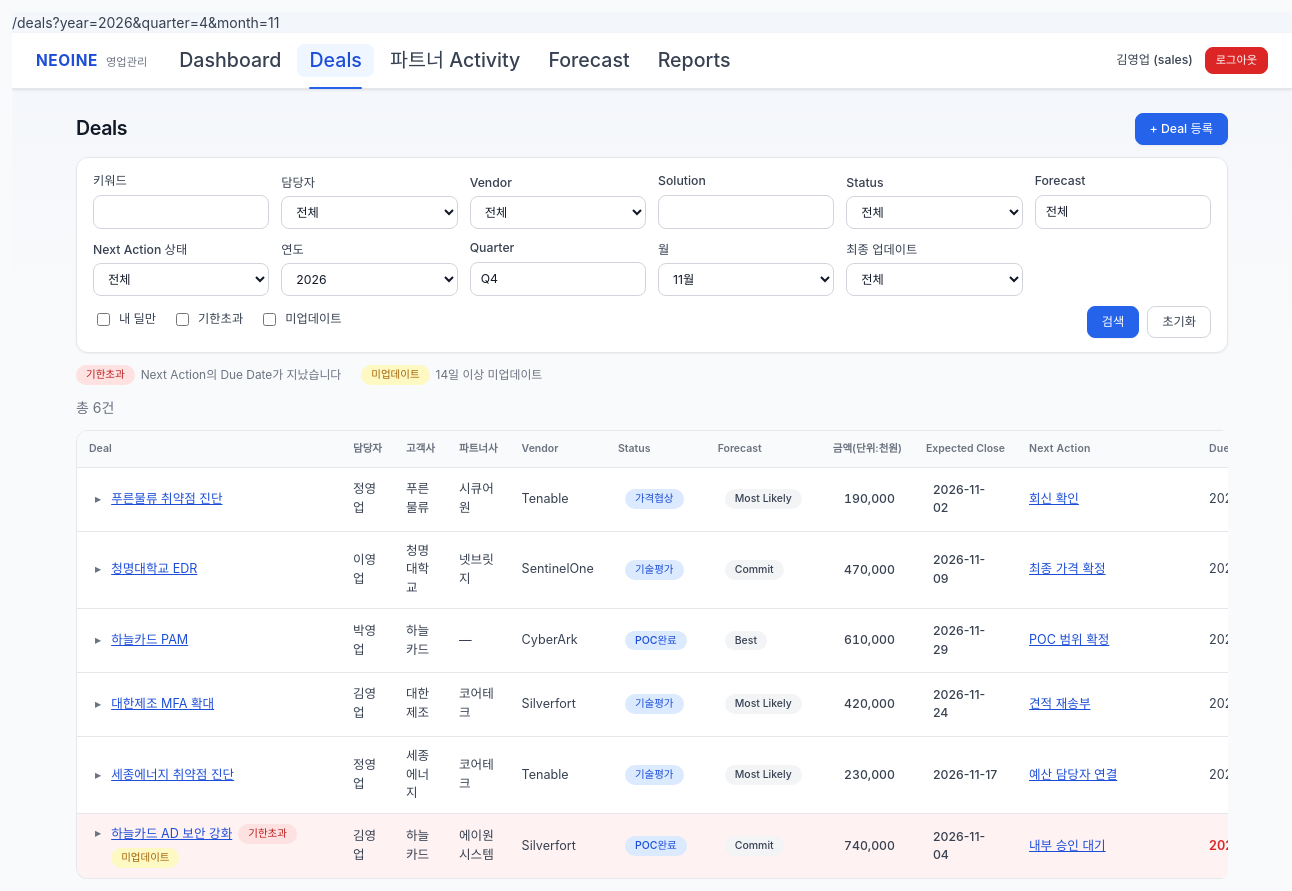
Test case: 분기를 바꿀 때 월 (AC-13, Quarter 다중 선택 AC-25) › keeps the month while a checked quarter set still contains it, and clears it once it does not
Expected: the dropdown labelled "월" is shown, [658,263,834,296]
Expected: the form named "Deal 필터" is shown, [76,157,1228,353]
Click the button named "Quarter ": (558, 279) [470,262,646,296]
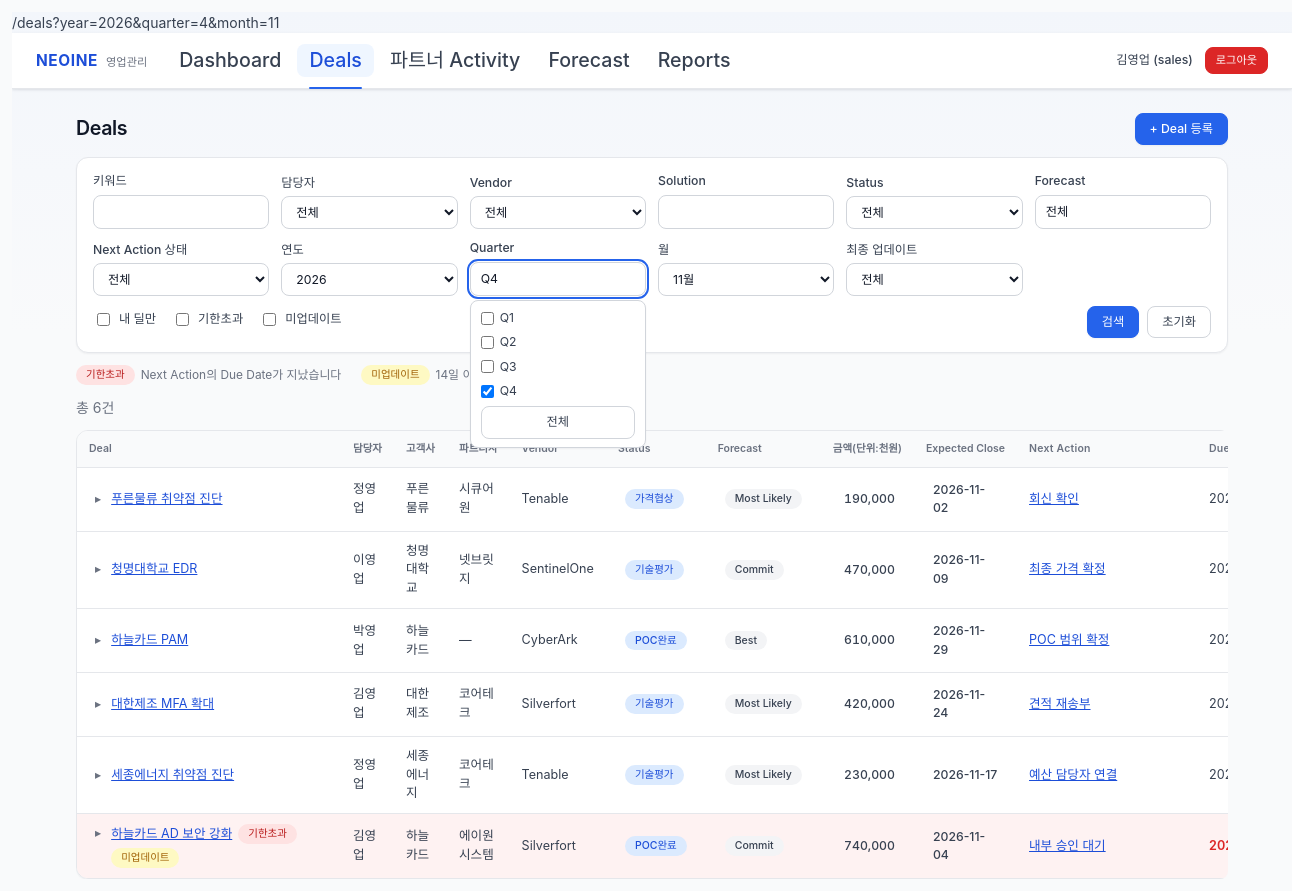
Click the checkbox labelled "Q3": (487, 367) [481,360,494,373]
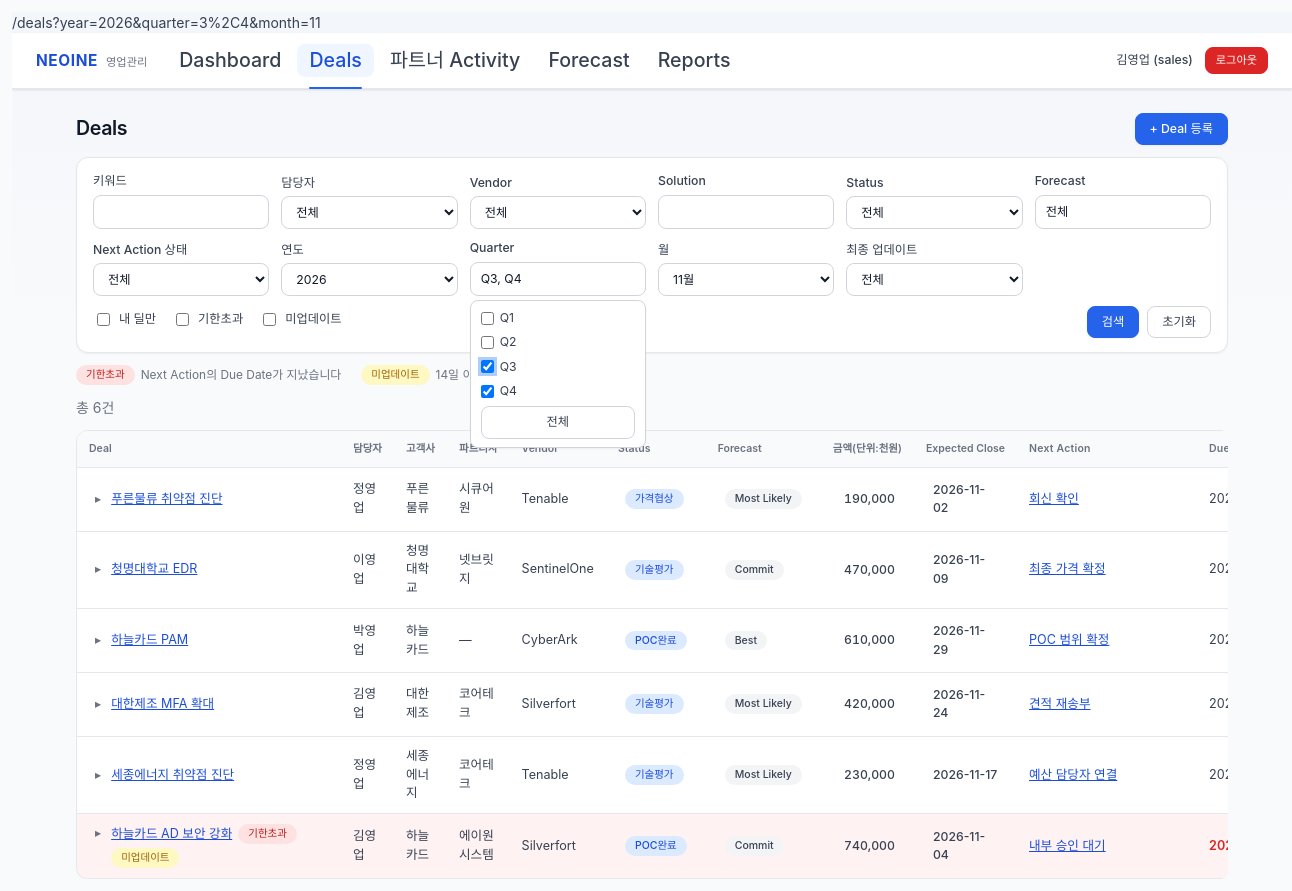
Expected: the dropdown labelled "월" shows "11월", [658,263,834,296]
Expected: the text with test id "location" reads "/deals?year=2026&quarter=3%2C4&month=11", [12,14,321,31]
Click the checkbox labelled "Q4": (487, 391) [481,385,494,398]
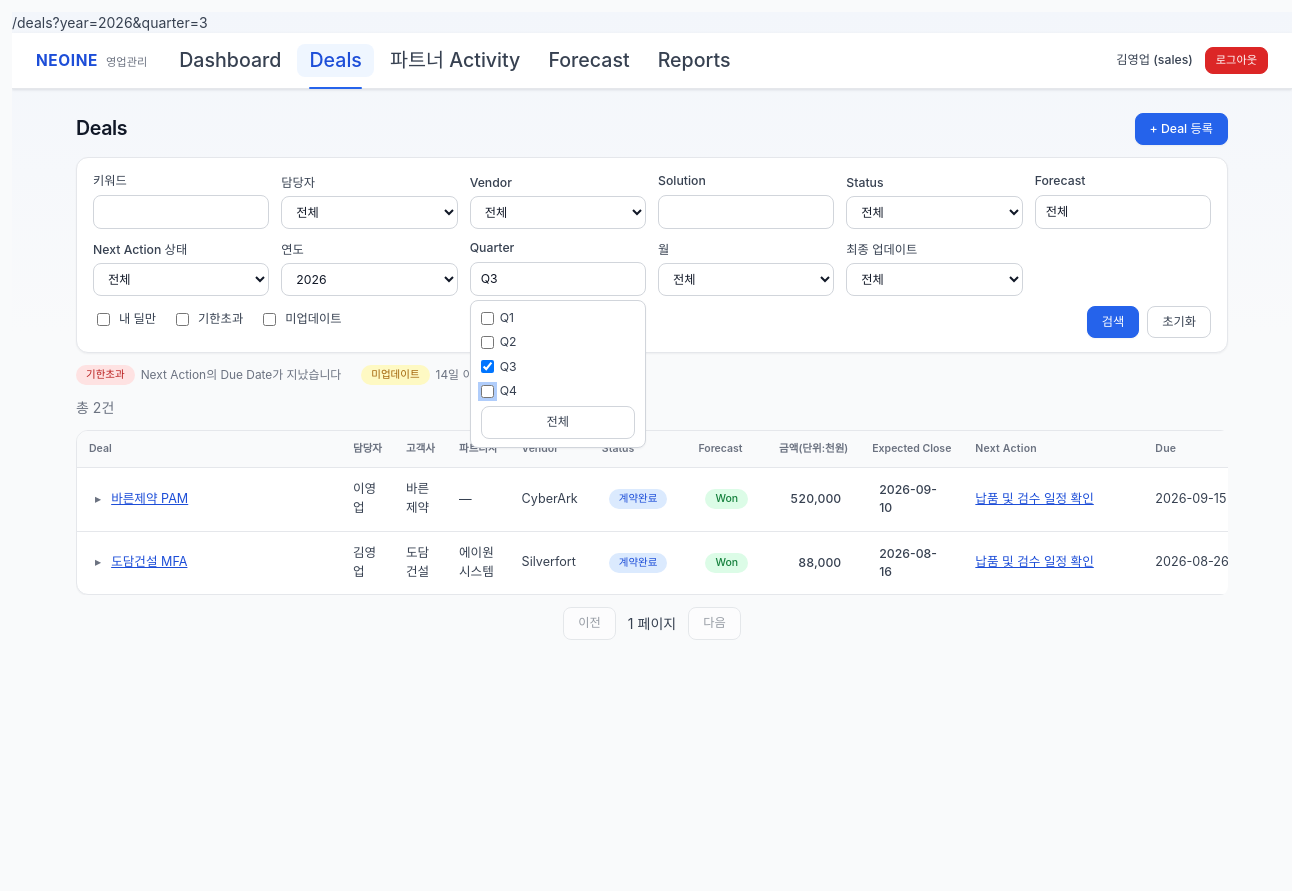
Expected: the text with test id "location" reads "/deals?year=2026&quarter=3", [12,14,208,31]
Expected: the dropdown labelled "월" shows "전체", [658,263,834,296]
